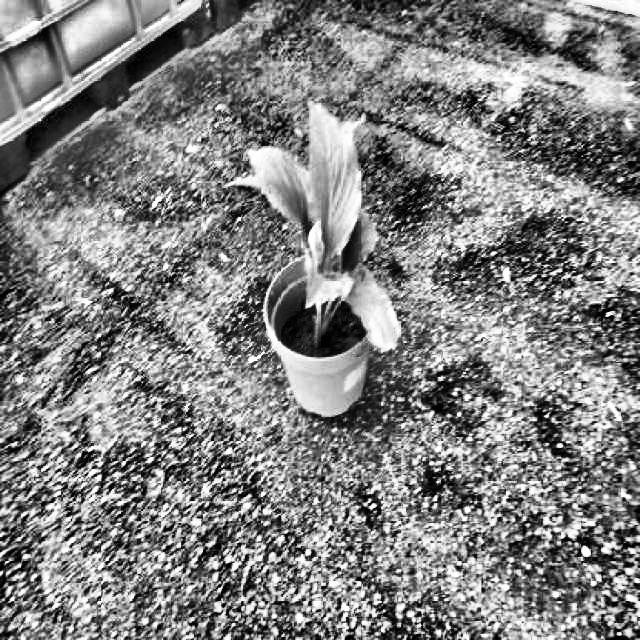plants: (224, 98, 401, 364)
